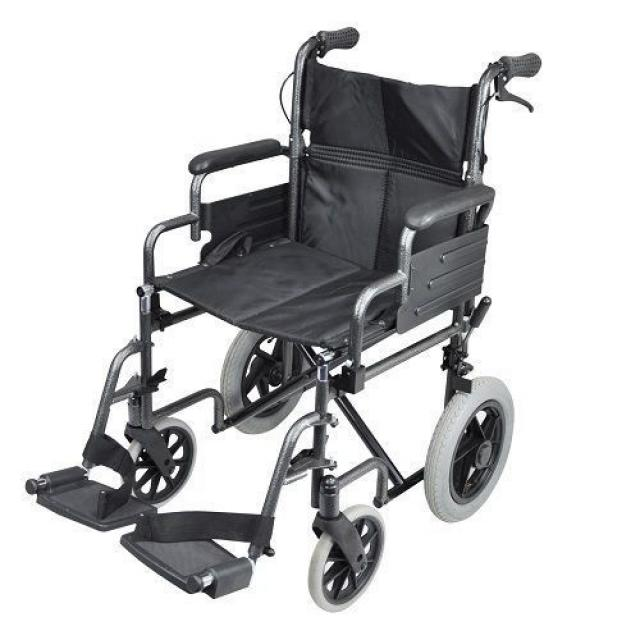wheelchair: (17, 16, 559, 624)
